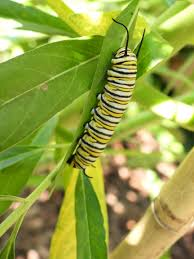Caterpillar: (67, 19, 146, 179)
